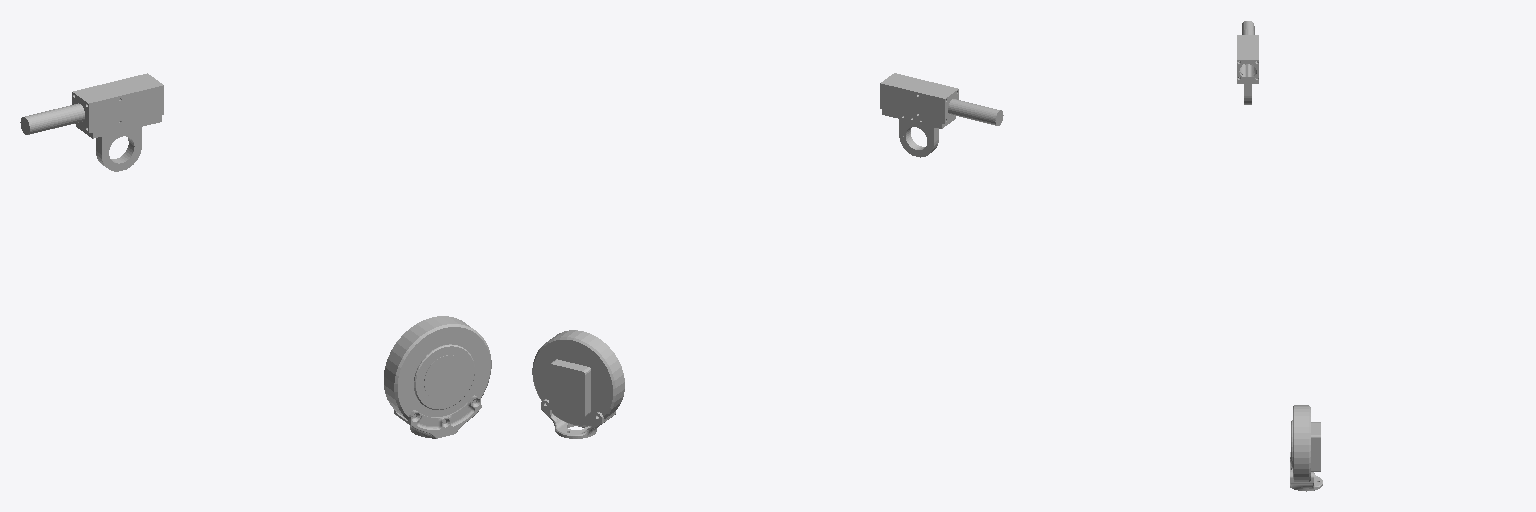
URDF robot description (ranch_rover):
<?xml version="1.0" encoding="utf-8"?>
<!-- =================================================================================== -->
<!-- |    This document was autogenerated by xacro from robot_controlsim_v2.xacro      | -->
<!-- |    EDITING THIS FILE BY HAND IS NOT RECOMMENDED                                 | -->
<!-- =================================================================================== -->
<robot name="ranch_rover">
  <!-- First link of the robot. Corresponds to the robot main frame. -->
  <link name="link_chassis">
    <pose> 0 0 0 0 0 0 </pose>
    <inertial>
      <mass value="24.5"/> 
      <origin rpy="0 0 0" xyz="0.0052 -0.0009 0.0050"/>
      <inertia ixx="0.729" ixy="0.0029" ixz="-0.0160" iyx="0.0029" iyy="0.4254" iyz="0.0028" izx="-0.0160" izy="0.0028" izz="1.008"/>
    </inertial>
    <collision>
      <geometry>
	<mesh filename="agrobot/link_chassis.STL" scale="0.001 0.001 0.001"/>
      </geometry>
      <origin rpy="0 0 0" xyz="0 0 0"/>
    </collision>
    <visual name="vis1">
      <origin rpy="0 0 0" xyz="0 0 0"/>
      <!-- <geometry>
        <mesh filename="agrobot/link_chassis.STL" scale="0.001 0.001 0.001"/>
      </geometry> -->
    </visual>
  </link>

  <!-- LINK_1 -->
  <link name="Link_1">
    <inertial>
      <origin rpy="0 0 0" xyz="2.74225442931497E-06 -0.00353778613018245 0.0515804512927737"/>
      <mass value="0.507852532624306"/>
      <inertia ixx="0.000305049101665729" ixy="1.46296943748327E-09" ixz="-1.23302173450347E-08" iyy="0.000527056723286848" iyz="4.68473207349431E-06" izz="0.000309137354236652"/>
    </inertial>
    <visual>
      <origin rpy="0 0 0" xyz="0 0 0"/>
      <geometry>
        <mesh filename="agrobot/Link_1.STL"/>
      </geometry>
      <material name="">
        <color rgba="0.752941176470588 0.752941176470588 0.752941176470588 1"/>
      </material>
    </visual>
    <collision>
      <origin rpy="0 0 0" xyz="0 0 0"/>
      <!-- <geometry>
        <mesh filename="agrobot/Link_1.STL"/>
      </geometry> -->
    </collision>
  </link>
  <joint name="Joint_1" type="revolute">
    <origin rpy="0 0 0" xyz="0.190 -0.033 0.196"/>
    <parent link="link_chassis"/>
    <child link="Link_1"/>
    <axis xyz="0 0 1"/>
    <limit effort="17" lower="-3.1415" upper="3.1415" velocity="40"/>
    <dynamics damping="0.0" friction="0.09"/>
  </joint>
  <transmission name="trans_Joint_1">
    <type>transmission_interface/SimpleTransmission</type>
    <joint name="Joint_1">
      <hardwareInterface>hardware_interface/EffortJointInterface</hardwareInterface>
    </joint>
    <actuator name="motor_Joint_1">
      <hardwareInterface>hardware_interface/EffortJointInterface</hardwareInterface>
      <mechanicalReduction>1</mechanicalReduction>
    </actuator>
  </transmission>
  <!-- LINK_2 -->
  <link name="Link_2">
    <inertial>
      <origin rpy="0 0 0" xyz="0.058405779904307 2.0203040740352E-08 0.0339456863545732"/>
      <mass value="0.81308899959476"/>
      <inertia ixx="0.000388392439322651" ixy="-9.54214032854378E-10" ixz="1.27795112061735E-05" iyy="0.00467218660610504" iyz="-8.84832562194152E-11" izz="0.00496730197895087"/>
    </inertial>
    <visual>
      <origin rpy="0 0 0" xyz="0 0 0"/>
      <!-- <geometry>
        <mesh filename="agrobot/Link_2.STL"/>
      </geometry> -->
      <material name="">
        <color rgba="0.752941176470588 0.752941176470588 0.752941176470588 1"/>
      </material>
    </visual>
    <collision>
      <origin rpy="0 0 0" xyz="0 0 0"/>
      <geometry>
        <mesh filename="agrobot/Link_2.STL"/>
      </geometry>
    </collision>
  </link>
  <joint name="Joint_2" type="revolute">
    <origin rpy="-1.5707963267949 0 3.14159265358979" xyz="0 -0.019 0.0545"/>
    <parent link="Link_1"/>
    <child link="Link_2"/>
    <axis xyz="0 0 1"/>
    <limit effort="17" lower="-3.1415" upper="0" velocity="40"/>
    <dynamics damping="0.0" friction="0.09"/>
  </joint>
  <transmission name="trans_Joint_2">
    <type>transmission_interface/SimpleTransmission</type>
    <joint name="Joint_2">
      <hardwareInterface>hardware_interface/EffortJointInterface</hardwareInterface>
    </joint>
    <actuator name="motor_Joint_2">
      <hardwareInterface>hardware_interface/EffortJointInterface</hardwareInterface>
      <mechanicalReduction>1</mechanicalReduction>
    </actuator>
  </transmission>
  <!-- LINK_3 -->
  <link name="Link_3">
    <inertial>
      <origin rpy="0 0 0" xyz="0.232598222729073 -9.20818372995846E-07 -0.00955342978657184"/>
      <mass value="0.336944931620173"/>
      <inertia ixx="3.67648841212008E-05" ixy="-9.59389619481419E-11" ixz="-1.81657115526022E-06" iyy="0.00138520509069701" iyz="2.76629218451524E-12" izz="0.00140450563412969"/>
    </inertial>
    <visual>
      <origin rpy="0 0 0" xyz="0 0 0"/>
      <!-- <geometry>
        <mesh filename="agrobot/Link_3.STL"/>
      </geometry> -->
      <material name="">
        <color rgba="0.752941176470588 0.752941176470588 0.752941176470588 1"/>
      </material>
    </visual>
    <collision>
      <origin rpy="0 0 0" xyz="0 0 0"/>
      <geometry>
        <mesh filename="agrobot/Link_3.STL"/>
      </geometry>
    </collision>
  </link>
  <joint name="Joint_3" type="revolute">
    <origin rpy="0 0 -1.5708" xyz="0.352 0 0.05275"/>
    <parent link="Link_2"/>
    <child link="Link_3"/>
    <axis xyz="0 0 1"/>
    <limit effort="17" lower="-1.0472" upper="2.6" velocity="40"/>
    <dynamics damping="0.0" friction="0.09"/>
  </joint>
  <transmission name="trans_Joint_3">
    <type>transmission_interface/SimpleTransmission</type>
    <joint name="Joint_3">
      <hardwareInterface>hardware_interface/EffortJointInterface</hardwareInterface>
    </joint>
    <actuator name="motor_Joint_3">
      <hardwareInterface>hardware_interface/EffortJointInterface</hardwareInterface>
      <mechanicalReduction>1</mechanicalReduction>
    </actuator>
  </transmission>
  <!-- LINK_4 -->
  <link name="Link_4">
    <inertial>
      <origin rpy="0 0 0" xyz="0.0322792079054944 0.0215434702240224 1.30818635455249E-05"/>
      <mass value="0.213921465907275"/>
      <inertia ixx="5.72875335800106E-05" ixy="-2.1737619349779E-09" ixz="-2.22685486617804E-08" iyy="2.96741933821847E-05" iyz="1.83334792134304E-09" izz="6.54238610234211E-05"/>
    </inertial>
    <visual>
      <origin rpy="0 0 0" xyz="0 0 0"/>
      <geometry>
        <mesh filename="agrobot/Link_4.STL"/>
      </geometry>
      <material name="">
        <color rgba="0.752941176470588 0.752941176470588 0.752941176470588 1"/>
      </material>
    </visual>
    <collision>
      <origin rpy="0 0 0" xyz="0 0 0"/>
      <!-- <geometry>
        <mesh filename="agrobot/Link_4.STL"/>
      </geometry> -->
    </collision>
  </link>
  <joint name="Joint_4" type="revolute">
    <origin rpy="0 0 0" xyz="0.32 0 0"/>
    <parent link="Link_3"/>
    <child link="Link_4"/>
    <axis xyz="0 0 1"/>
    <limit effort="2.268" lower="-1.571" upper="1.571" velocity="0.319"/>
    <dynamics damping="0.0" friction="0.09"/>
  </joint>
  <transmission name="trans_Joint_4">
    <type>transmission_interface/SimpleTransmission</type>
    <joint name="Joint_4">
      <hardwareInterface>hardware_interface/VelocityJointInterface</hardwareInterface>
    </joint>
    <actuator name="motor_Joint_4">
      <hardwareInterface>hardware_interface/VelocityJointInterface</hardwareInterface>
      <mechanicalReduction>1</mechanicalReduction>
    </actuator>
  </transmission>

</robot>

--- What the picture shows (computed from the rendered views, not written in the file) ---
The picture shows the robot from 3 angles, left to right: view 1: azimuth 30°, elevation 25°; view 2: azimuth 150°, elevation 25°; view 3: azimuth 270°, elevation 25°; orthographic projection.
Model ranch_rover with 5 links and 4 joints (4 revolute), rooted at link_chassis, posed every joint at zero.
Visible links, largest first — view 1: Link_1, Link_4; view 2: Link_1, Link_4; view 3: Link_1, Link_4.
Link boxes in pixels (box(x1,y1,x2,y2)): Link_1: box(384, 316, 491, 438); Link_4: box(20, 73, 163, 171); Link_1: box(532, 330, 624, 438); Link_4: box(880, 73, 1003, 157); Link_1: box(1290, 405, 1322, 491); Link_4: box(1237, 21, 1258, 104).
Size in the robot's own frame: 0.4921 by 0.1067 by 0.4305 metres.
2 mesh visuals loaded from 2 distinct referenced files (2 binary STL).